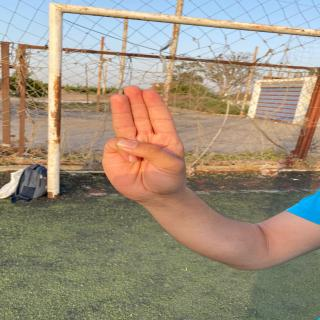THA: (76, 85, 201, 202)
